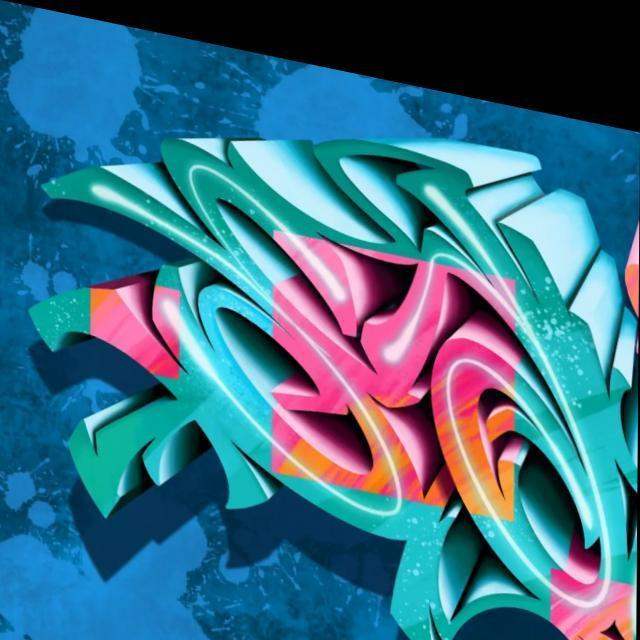-: (1, 16, 640, 640)
